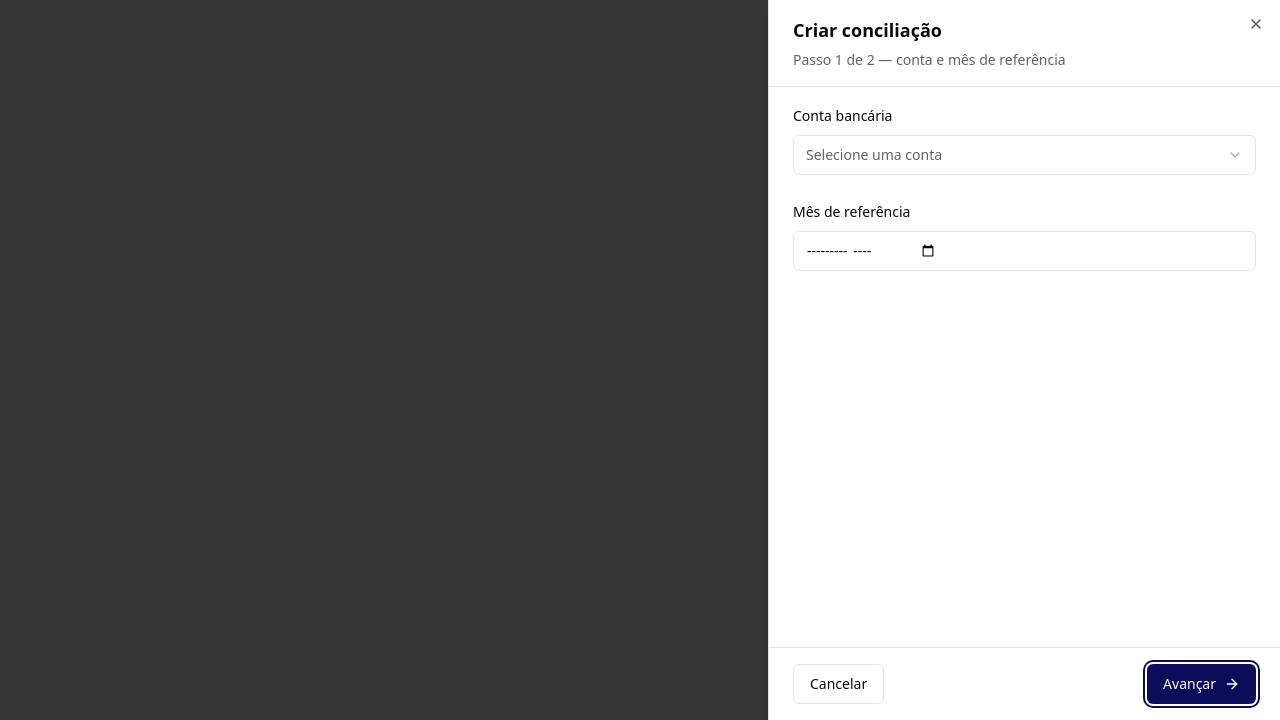
Test: Gaveta — estrutura e navegação › avança para o Step 2 e volta preservando os dados
Click the dropdown named "Conta bancária" at (874, 154), box left=793, top=135, right=1256, bottom=175
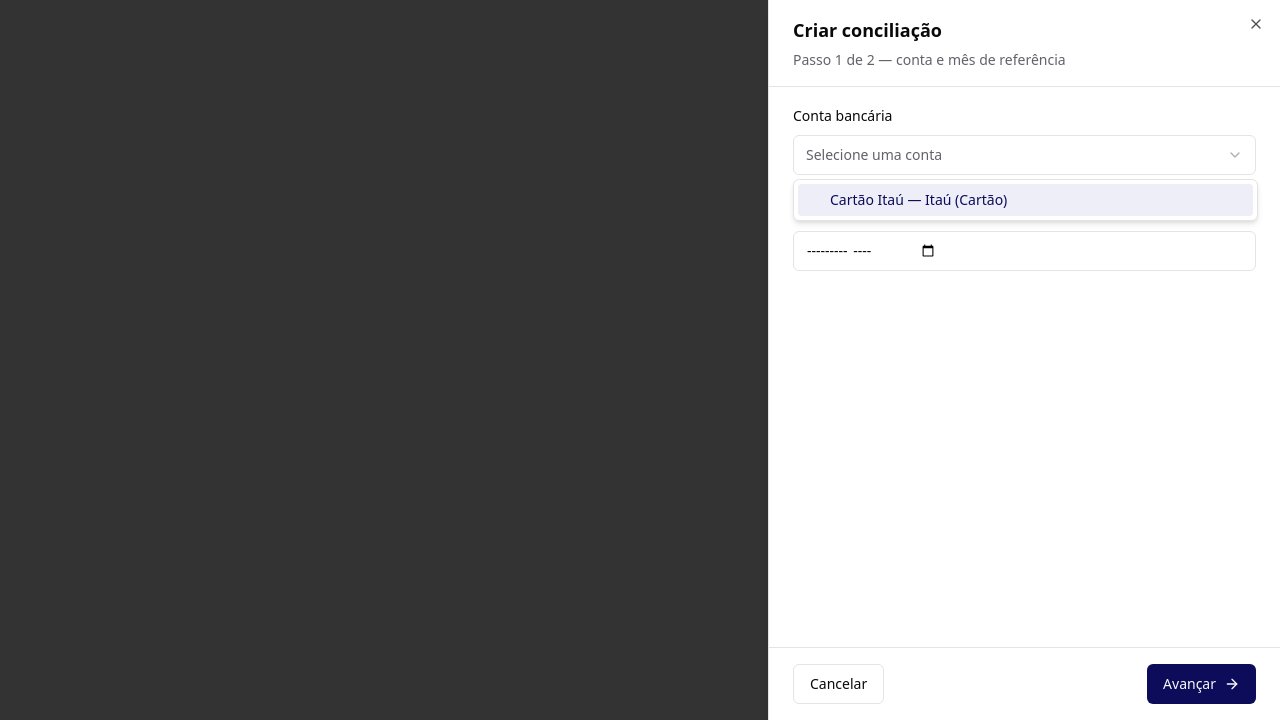
Click the option "Cartão Itaú — Itaú (Cartão)" at (919, 200), box left=798, top=184, right=1253, bottom=216
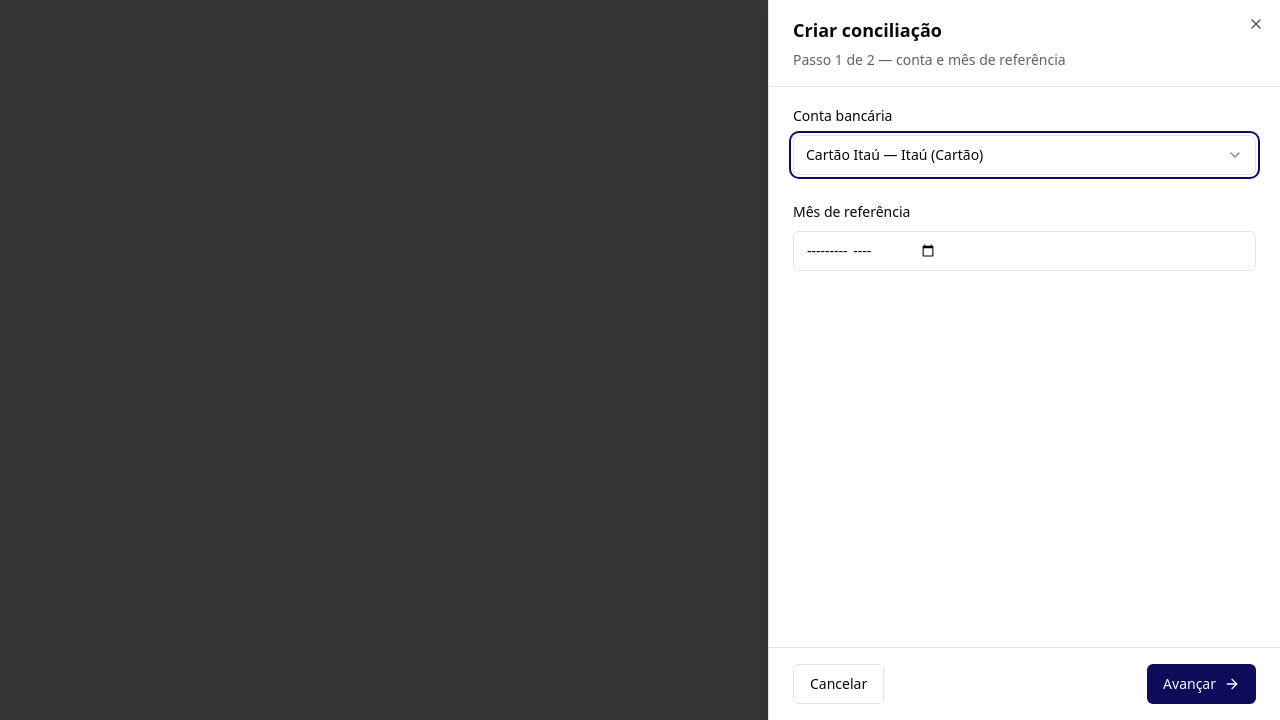
Type "2026-06" into the field labelled "Mês de referência" at (1024, 251), box left=793, top=231, right=1256, bottom=271
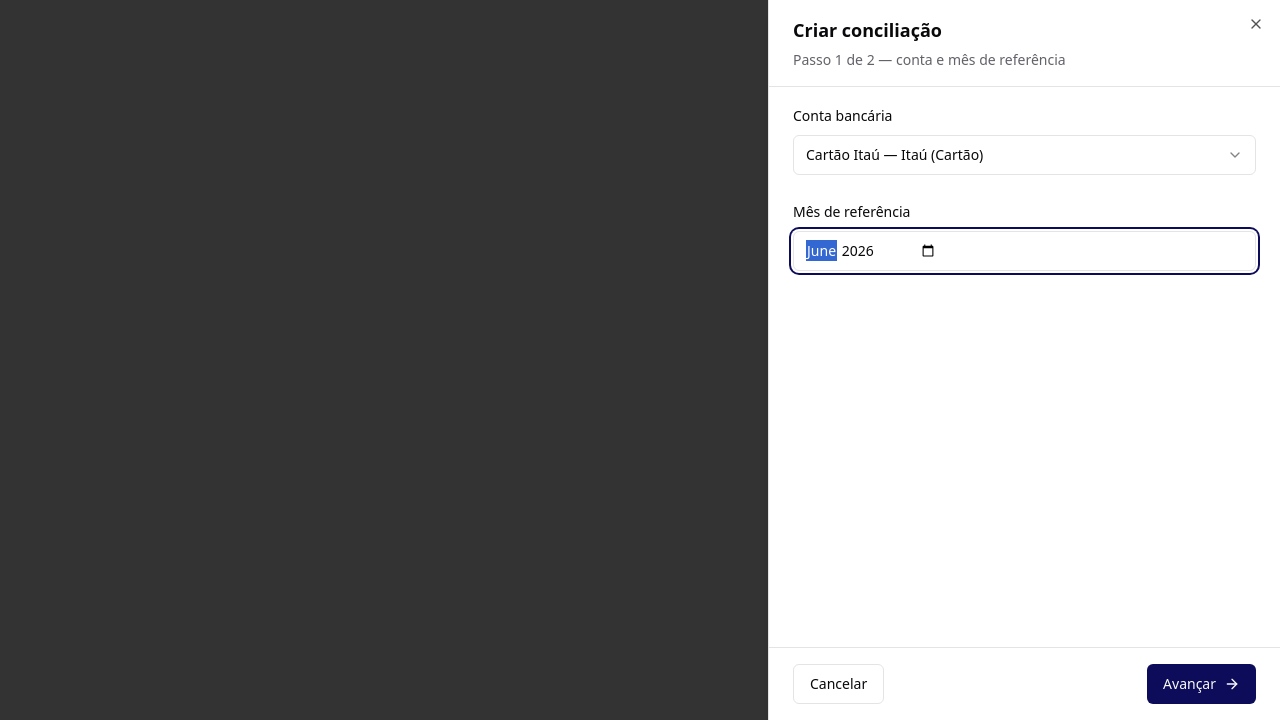
Click the button "Avançar" at (1202, 684), box left=1147, top=664, right=1256, bottom=704
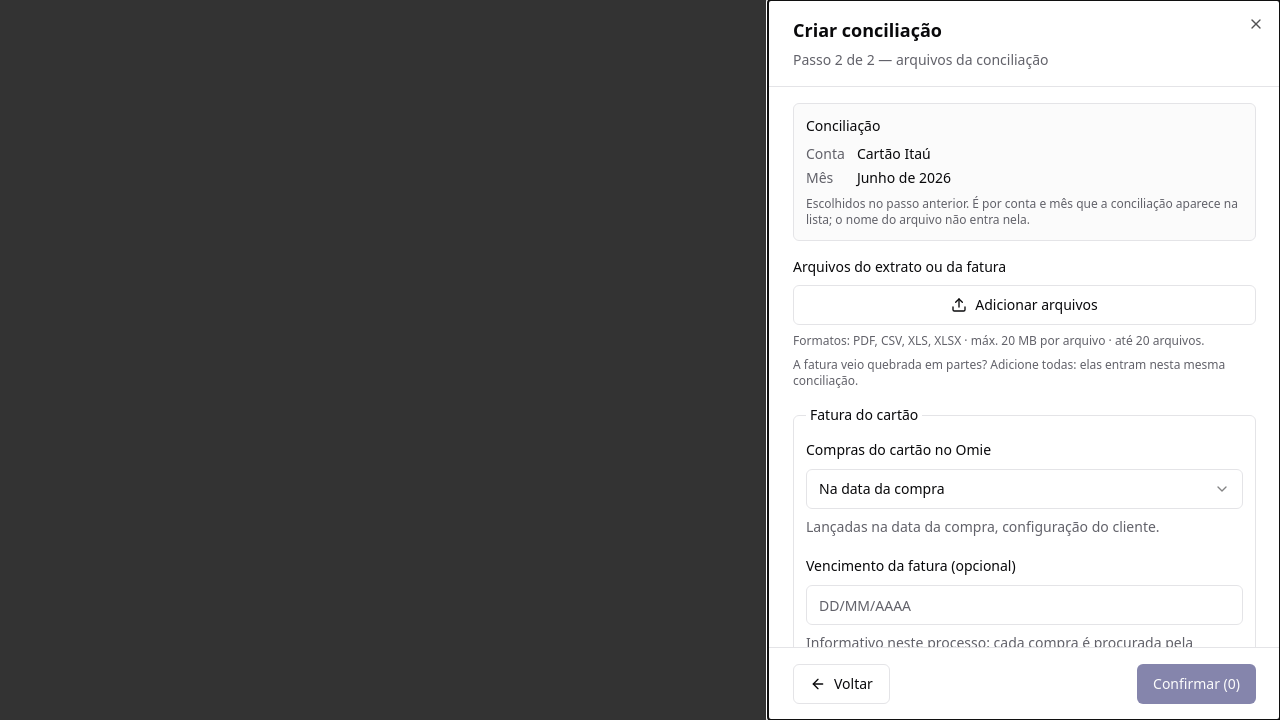
Result: the file field labelled "Adicionar arquivos" is shown at left=793, top=285, right=1256, bottom=325
Result: the text "Junho de 2026" is shown at left=857, top=168, right=951, bottom=187
Click the button "Voltar" at (841, 684), box left=793, top=664, right=890, bottom=704
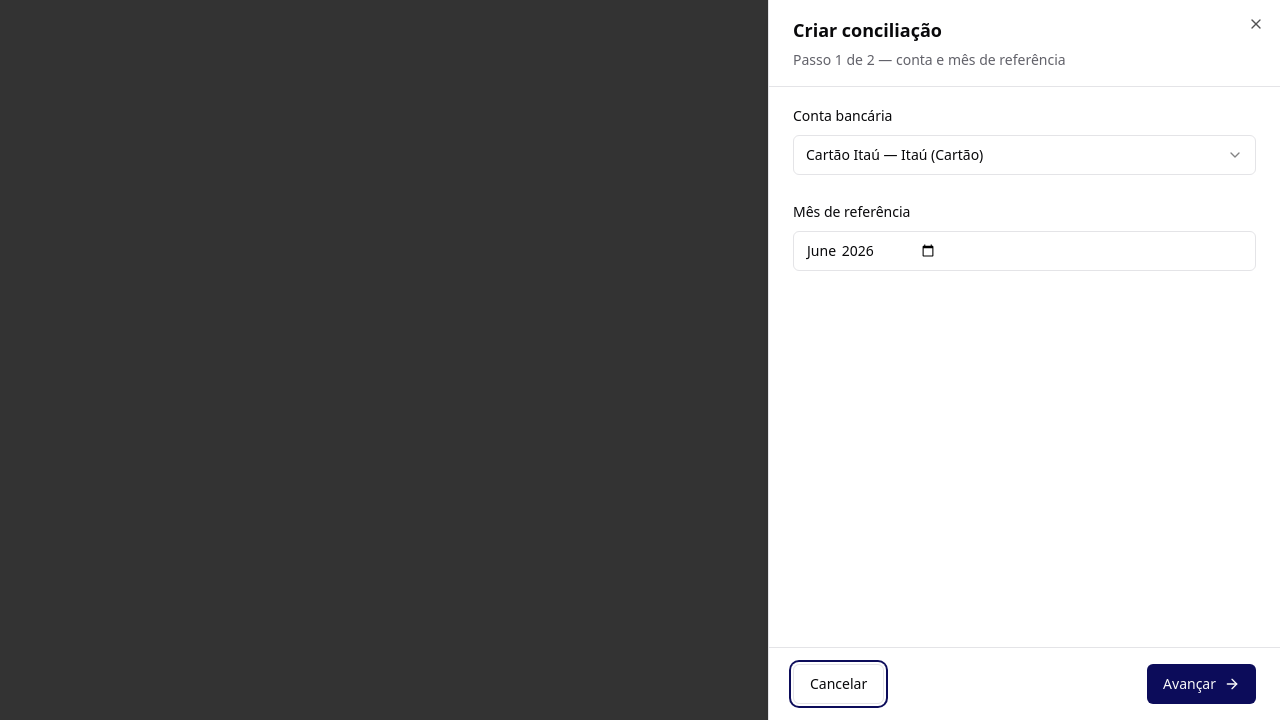
Result: the field labelled "Mês de referência" holds "2026-06" at left=793, top=231, right=1256, bottom=271
